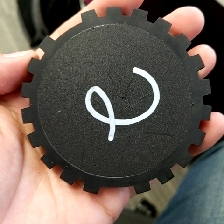gear: (19, 4, 213, 196)
missing: (39, 8, 98, 57), (81, 179, 153, 196)
